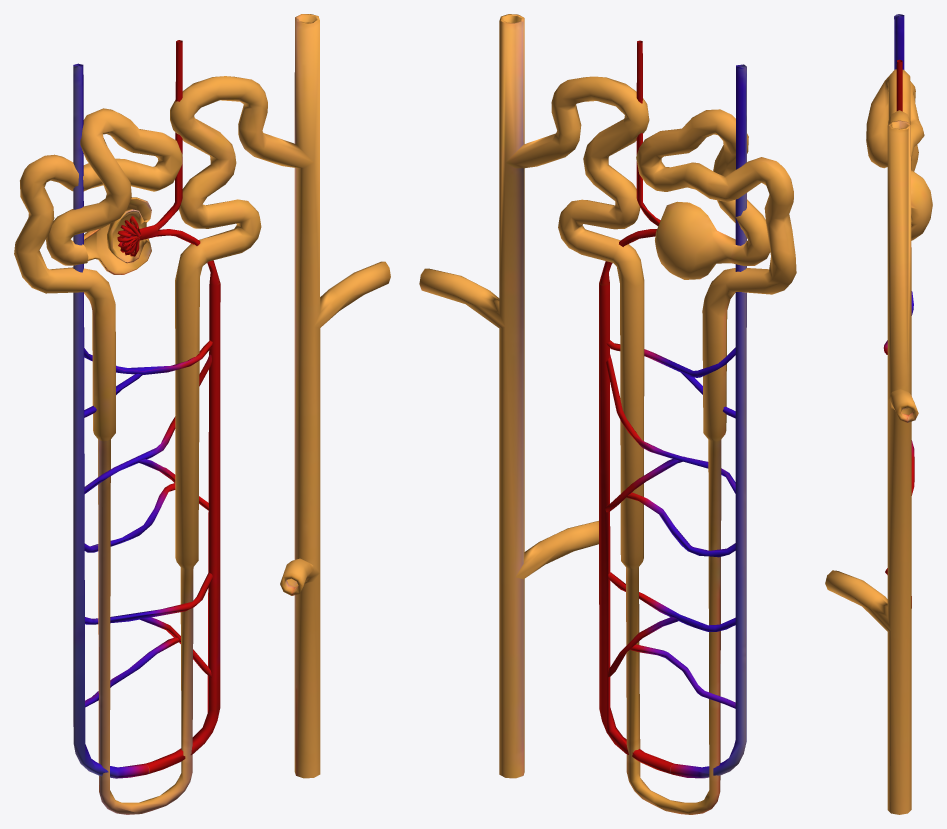
Rendered from PRP_Nephron_lod.glb.
3 renders of one model, left to right at view 1: azimuth 30°, elevation 25°; view 2: azimuth 150°, elevation 25°; view 3: azimuth 270°, elevation 25°, orthographic. The views are drawn at different scales.
Parts seen in each view (by area): view 1: sweep5_lambert1_0; view 2: sweep5_lambert1_0; view 3: sweep5_lambert1_0.
Part boxes in pixels (x1,y1,x2,y2): sweep5_lambert1_0: [14, 14, 390, 814]; sweep5_lambert1_0: [419, 14, 796, 814]; sweep5_lambert1_0: [825, 14, 932, 814].
Bounding box in the file's own units: 0.1035 × 0.2041 × 0.0288.
Materials: 1 (1 with a texture image).
